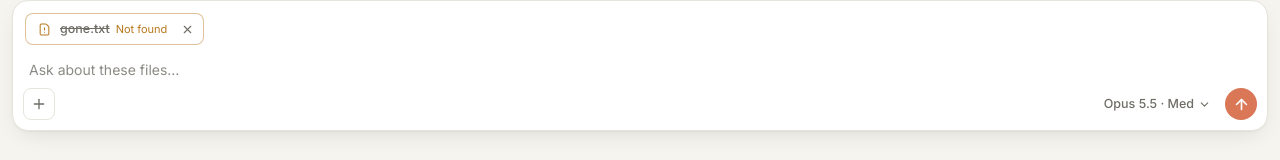
Test case: Composer › adds files and folders from the + menu as pills; missing files are flagged
Expected: the text "Not found" is shown, left=116, top=21, right=167, bottom=37
Click the button named "Add files or folders". click: {"x": 39, "y": 104}
box: left=23, top=88, right=55, bottom=120
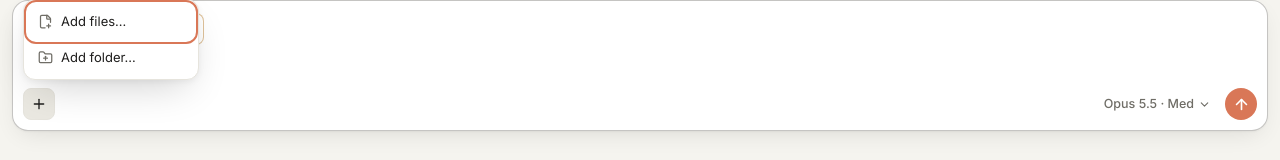
Click the menu item "Add files…". click: {"x": 111, "y": 22}
box: left=28, top=4, right=194, bottom=40
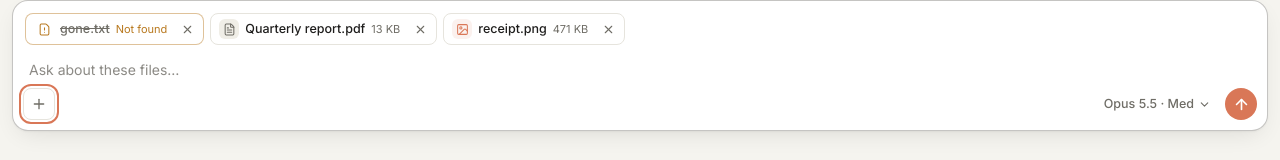
Result: the text "Quarterly report.pdf" is shown at left=245, top=20, right=365, bottom=38
Result: the text "receipt.png" is shown at left=478, top=20, right=547, bottom=38
Click the button named "Add files or folders". click: {"x": 39, "y": 104}
box: left=23, top=88, right=55, bottom=120
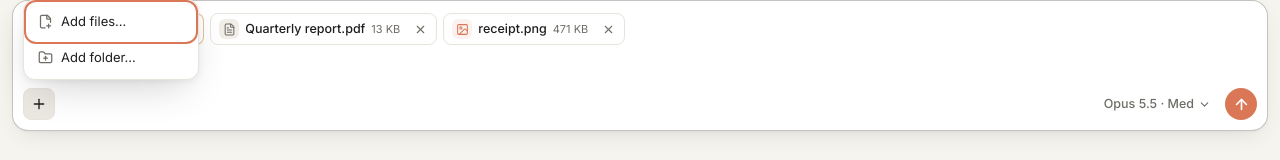
Click the menu item "Add folder…". click: {"x": 111, "y": 57}
box: left=28, top=40, right=194, bottom=75
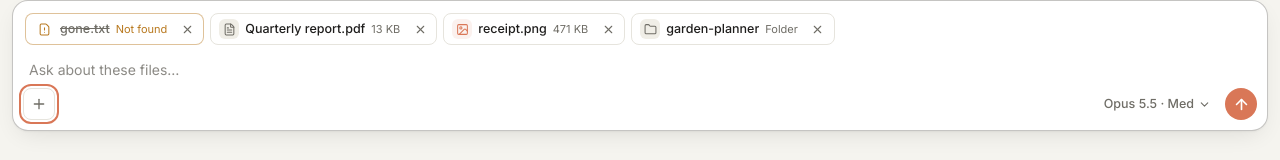
Result: the text "garden-planner" is shown at left=666, top=20, right=759, bottom=38
Result: the number of elements with test id "attachment-pill" is 4 at left=25, top=13, right=204, bottom=45; left=210, top=13, right=437, bottom=45; left=443, top=13, right=625, bottom=45; left=631, top=13, right=835, bottom=45
Click the button named "Remove receipt.png". click: {"x": 608, "y": 29}
box: left=596, top=17, right=620, bottom=41
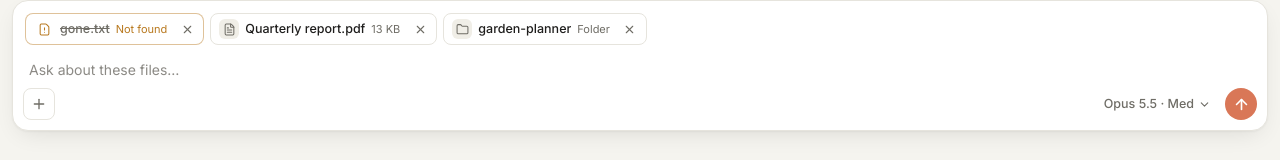
Result: the number of elements with test id "attachment-pill" is 3 at left=25, top=13, right=204, bottom=45; left=210, top=13, right=437, bottom=45; left=443, top=13, right=647, bottom=45
